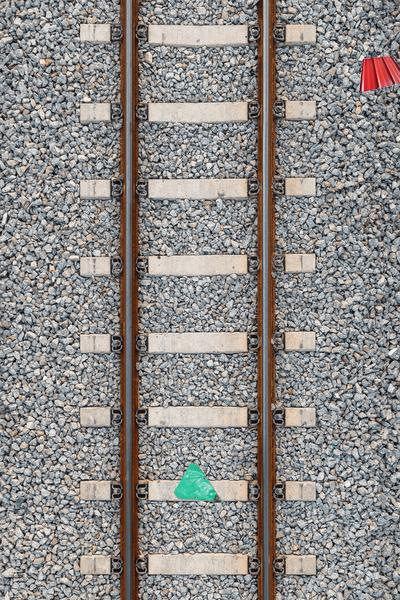Color_steel: (350, 56, 399, 97)
Dust_screen: (169, 460, 226, 509)
